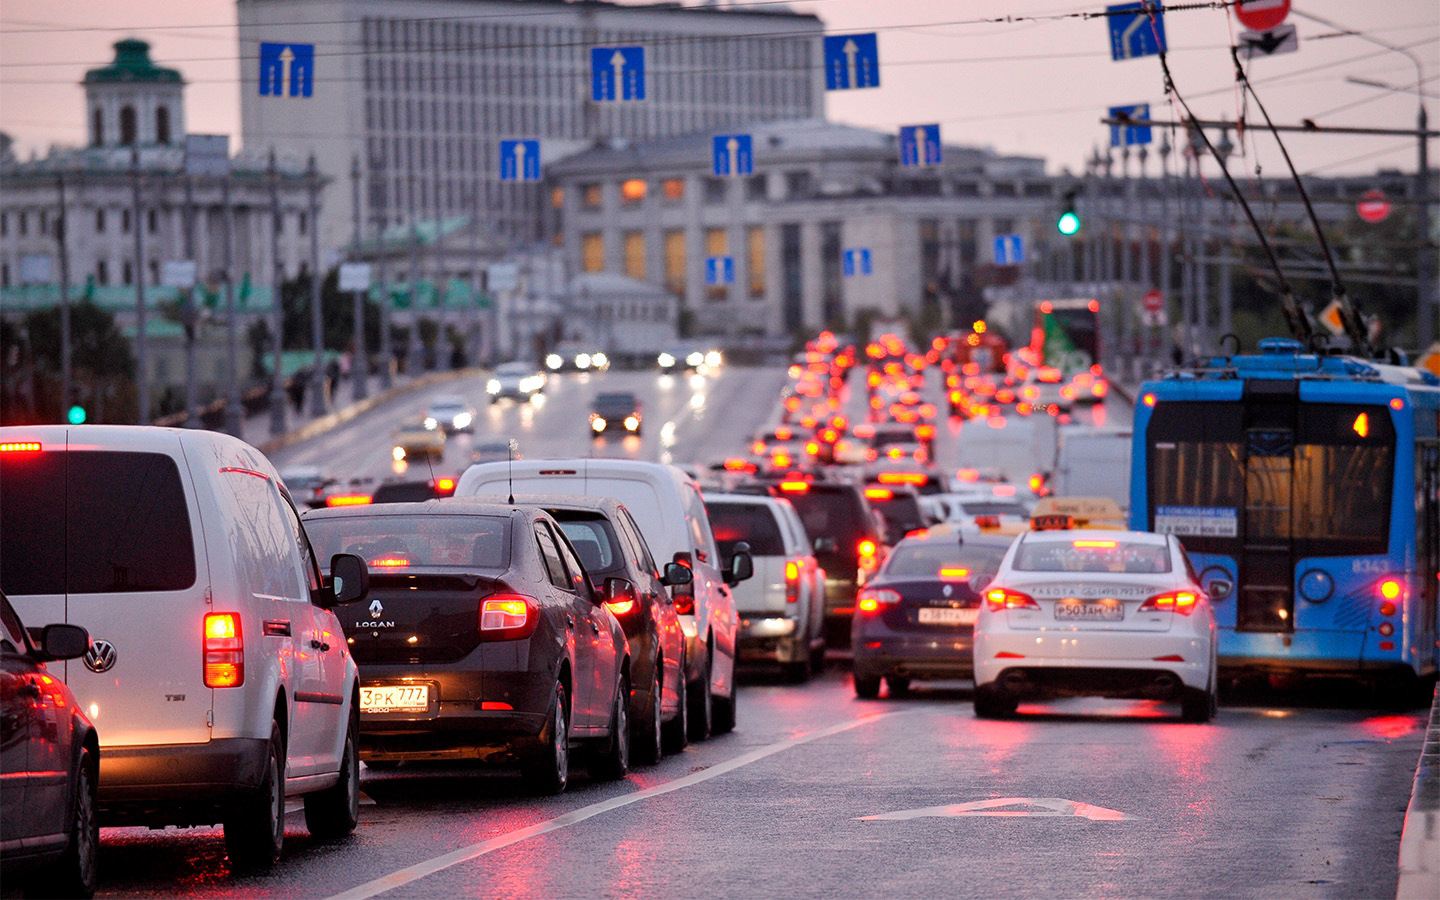sign: (812, 25, 886, 100), (584, 37, 657, 113), (254, 33, 324, 107), (1100, 1, 1169, 67), (888, 116, 956, 177), (496, 128, 554, 192), (706, 123, 765, 184), (1101, 100, 1162, 151), (1233, 25, 1303, 61), (834, 240, 878, 284), (1229, 1, 1298, 28), (701, 250, 744, 292), (990, 228, 1030, 272), (1316, 297, 1354, 336), (1354, 187, 1391, 225), (1140, 287, 1167, 314)
